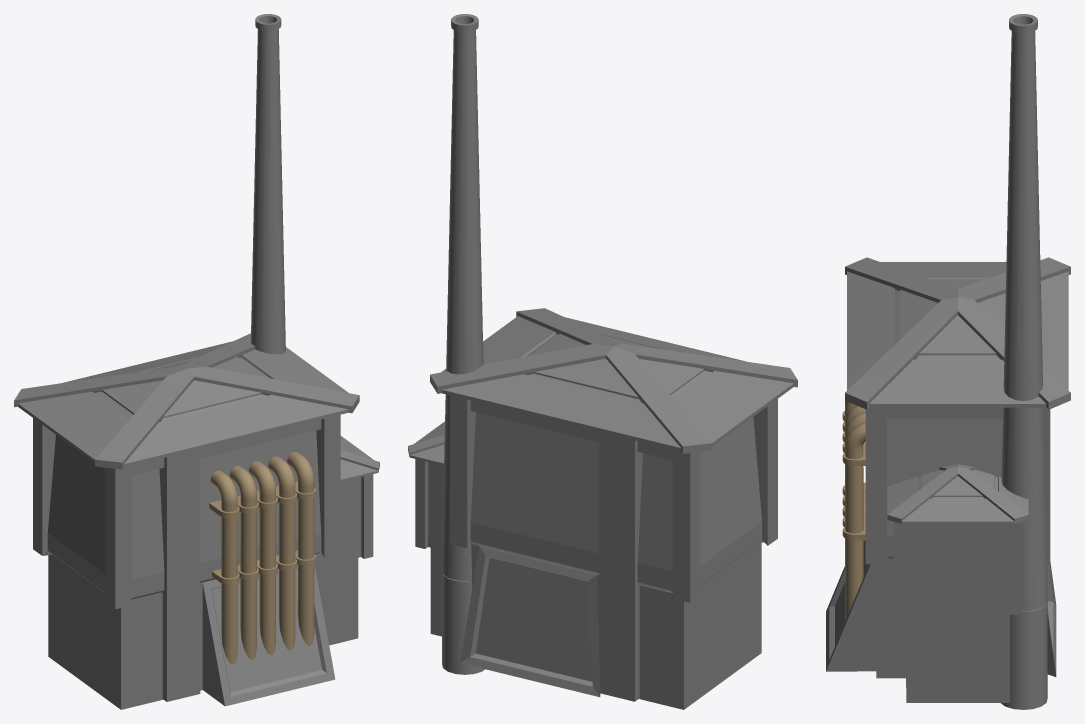
Rendered from DamBuilding1.fbx.
3 views of the same model, side by side, from view 1: azimuth 30°, elevation 25°; view 2: azimuth 150°, elevation 25°; view 3: azimuth 270°, elevation 25° (orthographic). The views are drawn at different scales.
Visible parts, largest first — view 1: pCube66; view 2: pCube66; view 3: pCube66.
Boxes of the visible parts, box(x1,y1,x2,y2) form: pCube66: box(14, 14, 379, 709); pCube66: box(408, 14, 797, 709); pCube66: box(826, 14, 1070, 709).
Bounding box in the file's own units: 25.17 × 48.55 × 15.84.
